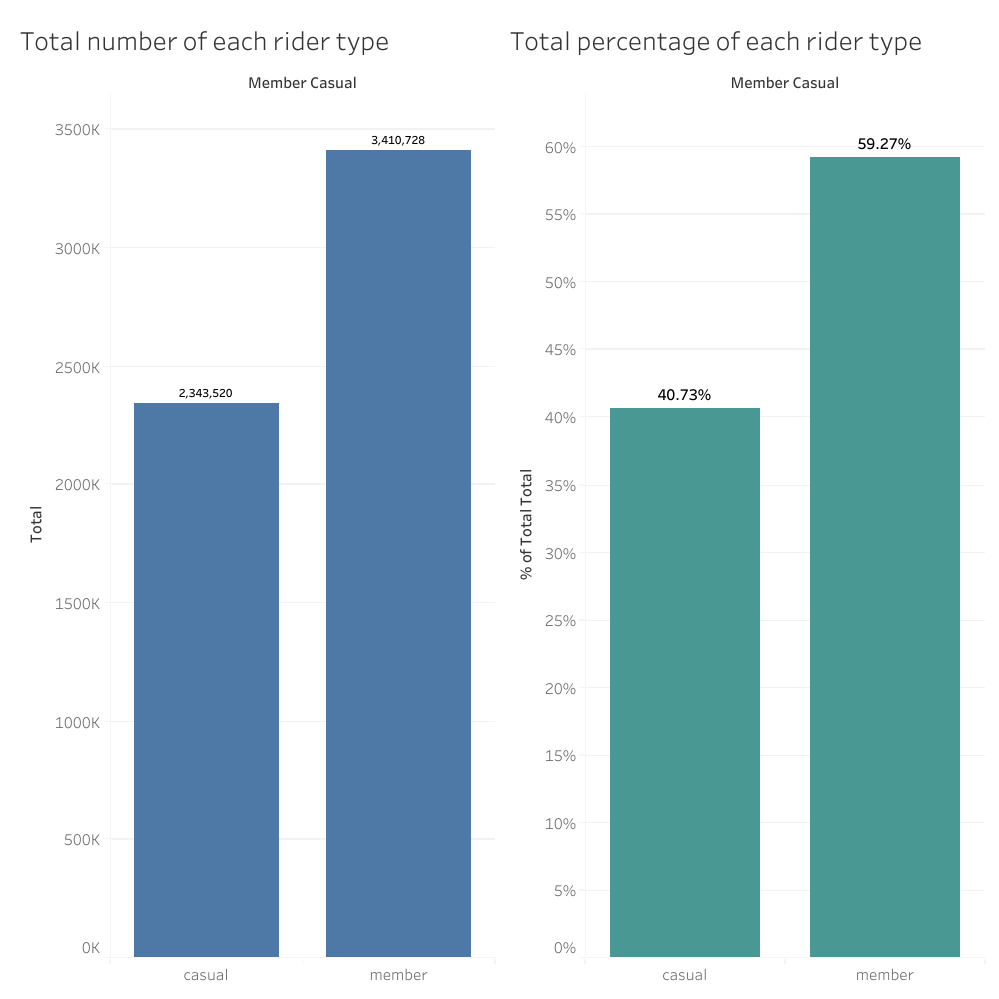

Layout of this report page (visuals, bound fields, positions):
{"tool":"tableau","page":{"name":"Dashboard 1","canvas":[1000,1000],"units":"permille","ordinal":0},"visuals":[{"type":"worksheet","title":"Sheet 1","mark":"Automatic","rows":["total"],"cols":["member_casual"],"box":[4.8,9.3,495.2,981.4]},{"type":"worksheet","title":"Sheet 2","mark":"Automatic","rows":["total"],"cols":["member_casual"],"box":[500,9.3,495.2,981.4]}]}

Visuals, with their boxes on the dashboard's canvas, which has no fixed pixel size, in thousandths of its width and height (x1, y1, x2, y2). These are canvas units, not pixel positions in the 999x999 screenshot, which may show the page scaled, cropped or inside an application window:
"Sheet 1" worksheet: select_region(5, 9, 500, 991)
"Sheet 2" worksheet: select_region(500, 9, 995, 991)
